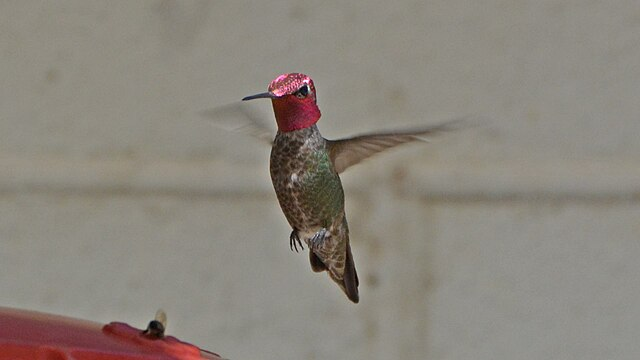calypte anna: (199, 73, 462, 303)
